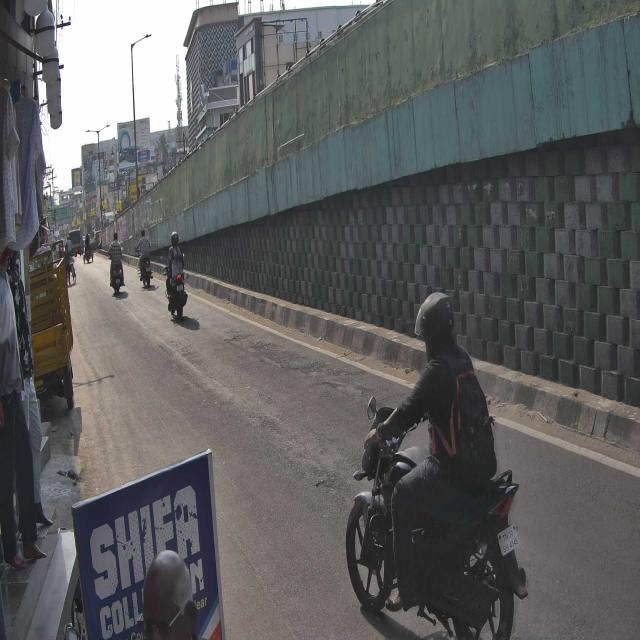single_rider: (337, 284, 528, 640)
